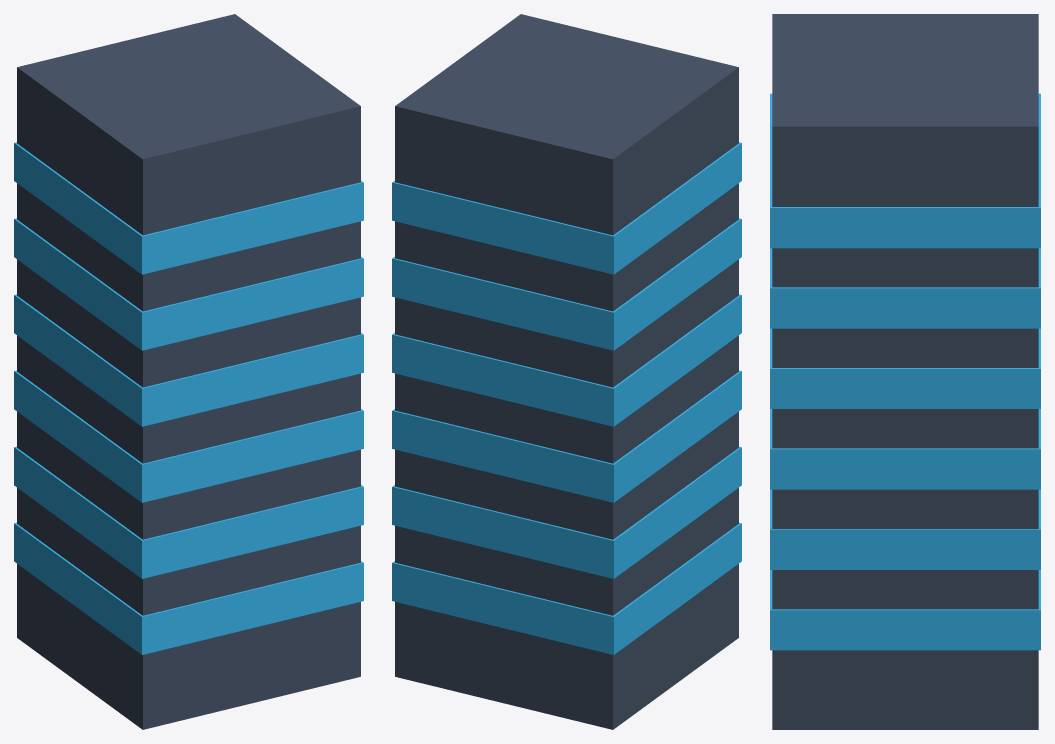
The model's file is building.glb.
3 views of the same model, side by side, from view 1: azimuth 30°, elevation 25°; view 2: azimuth 150°, elevation 25°; view 3: azimuth 270°, elevation 25° (orthographic). The views are drawn at different scales.
Size of the model in its own units: 2.44 by 6 by 2.44.
